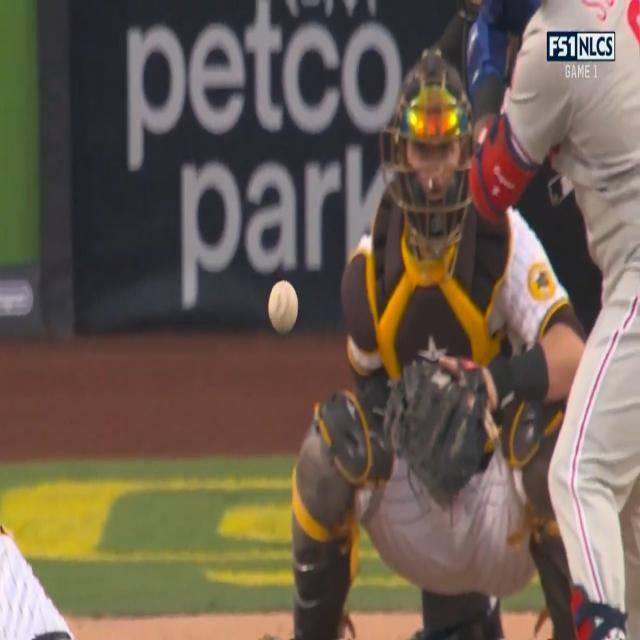baseball: (268, 279, 298, 334)
